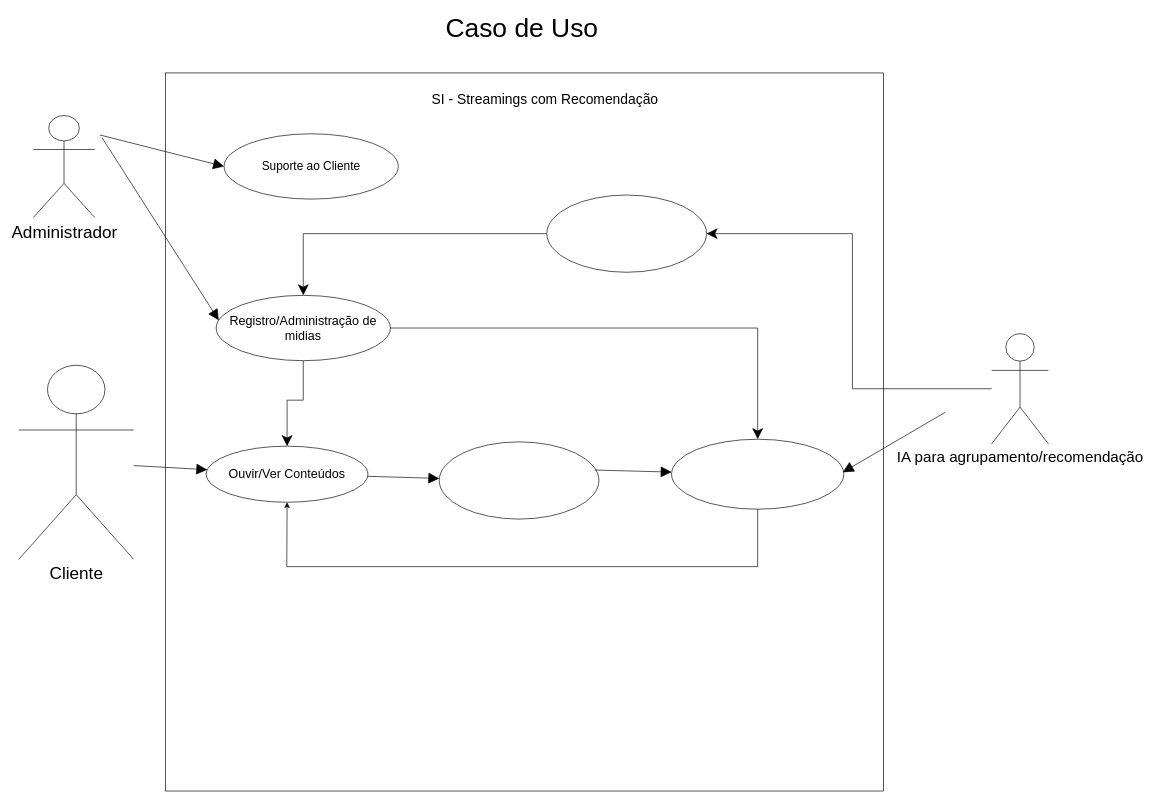
The diagram is 1154 pixels wide and 803 high, and some of its shapes have lost their labels. The centre of each missing label's shape, as x and y in pixels:
Dados Analíticos, Informações e Conhecimentos: pixel 626 233
Interações com conteúdos (Pular, Favoritar, Compartilhar): pixel 519 480
Recomendação de conteudo: pixel 757 474
